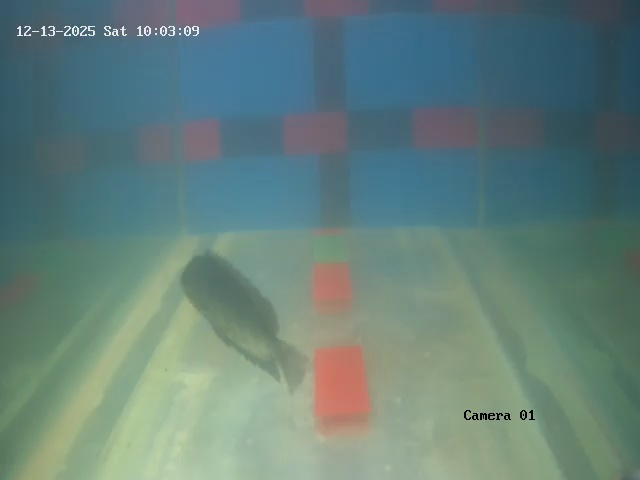fish: (181, 248, 276, 368)
